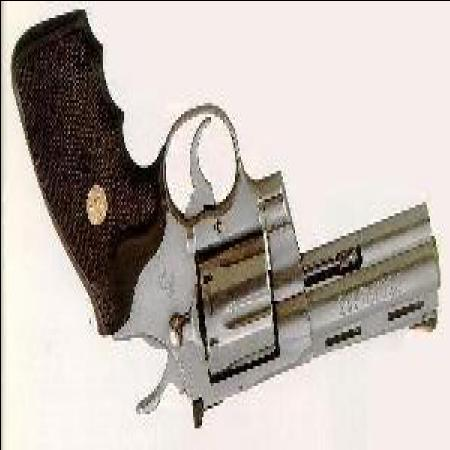Pistol: (5, 17, 436, 427)
